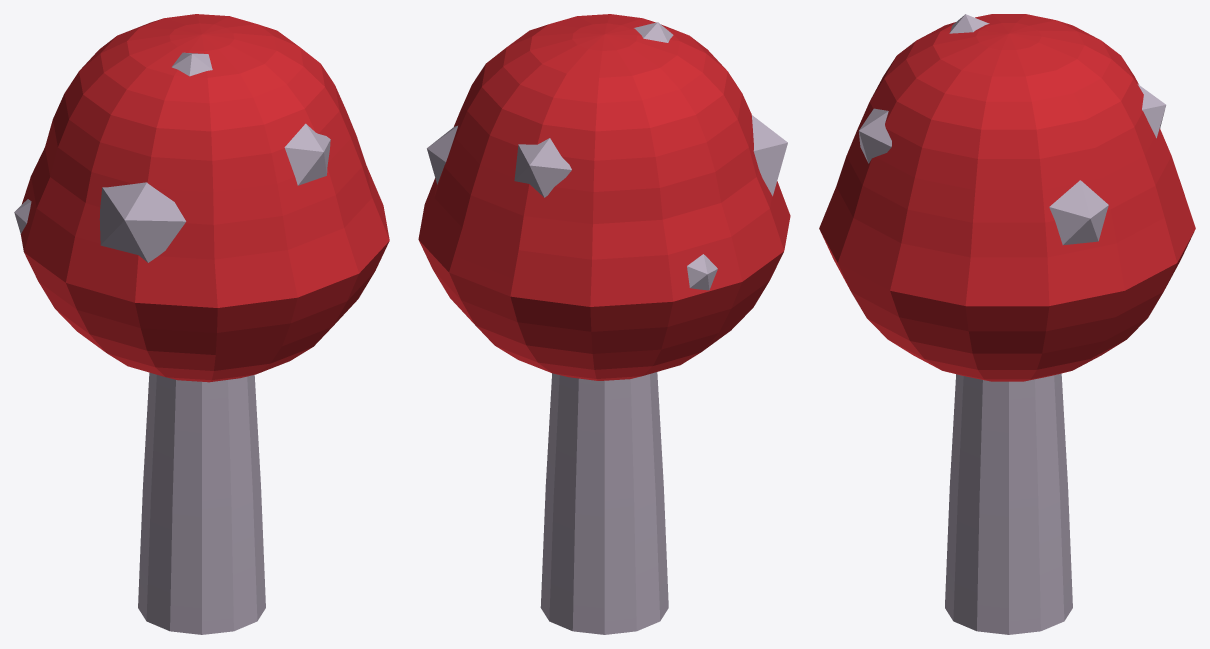
Rendered from B-Jamur Merah1.fbx.
3 views of the same model, side by side, from view 1: azimuth 30°, elevation 25°; view 2: azimuth 150°, elevation 25°; view 3: azimuth 270°, elevation 25° (orthographic).
Visible parts, largest first — view 1: Sphere.011, Sphere.012, Sphere.010; view 2: Sphere.011, Sphere.012, Sphere.010; view 3: Sphere.011, Sphere.012, Sphere.010.
Boxes of the visible parts, <box> form: Sphere.011: <box>20,14,389,382</box>; Sphere.012: <box>138,372,265,634</box>; Sphere.010: <box>14,52,330,262</box>; Sphere.011: <box>418,14,790,380</box>; Sphere.012: <box>540,372,668,634</box>; Sphere.010: <box>427,22,787,290</box>; Sphere.011: <box>819,14,1195,381</box>; Sphere.012: <box>945,373,1072,634</box>; Sphere.010: <box>859,14,1166,245</box>.
Size of the model in its own units: 57.19 by 99.35 by 58.66.
